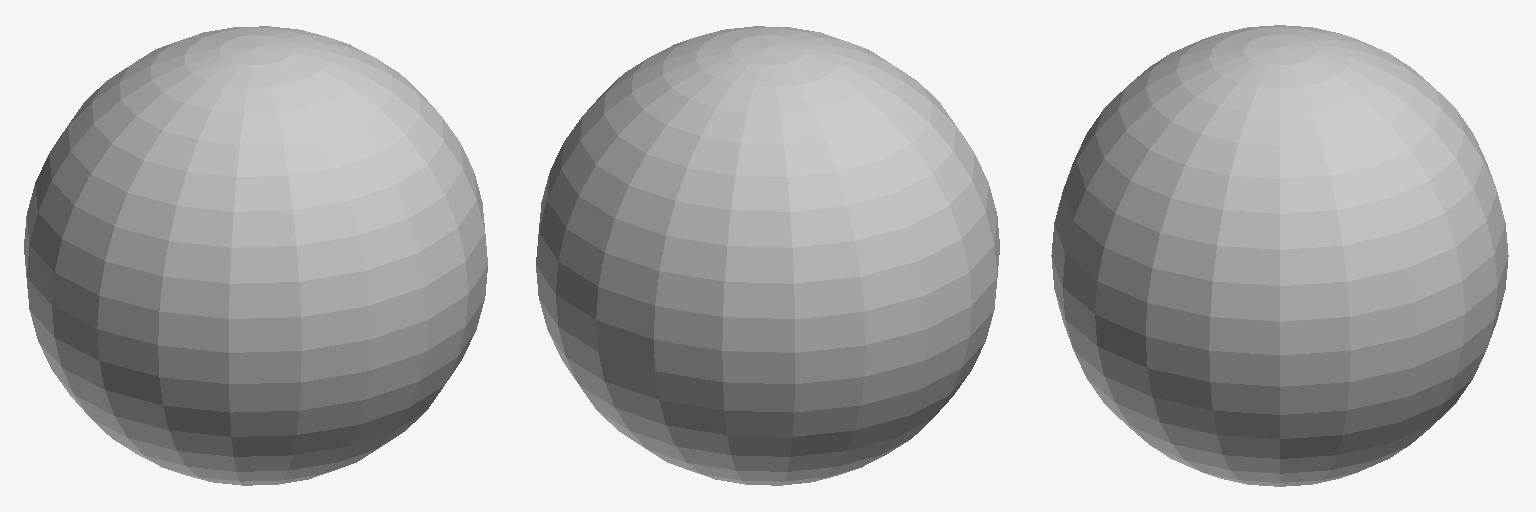
The model's file is Player_Bullet.obj.
3 renders of one model, left to right at view 1: azimuth 30°, elevation 25°; view 2: azimuth 150°, elevation 25°; view 3: azimuth 270°, elevation 25°, orthographic.
Bounding box in the file's own units: 0.8127 × 0.7937 × 0.7888.